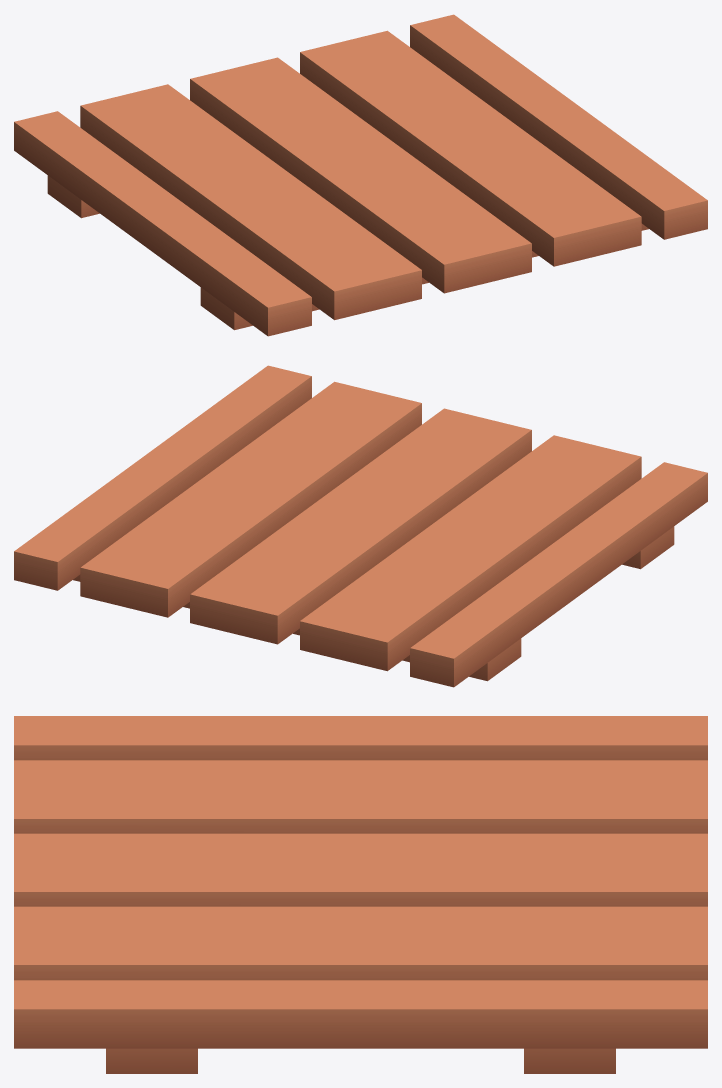
Rendered from floor.glb.
The picture shows the model from 3 angles, top to bottom: view 1: azimuth 30°, elevation 25°; view 2: azimuth 150°, elevation 25°; view 3: azimuth 270°, elevation 25°; orthographic projection. The views are drawn at different scales.
Visible parts, largest first — view 1: floor; view 2: floor; view 3: floor.
Part boxes in pixels (box(x1,y1,x2,y2)): floor: box(14, 14, 707, 336); floor: box(14, 365, 707, 687); floor: box(14, 716, 707, 1073).
Bounding box in the file's own units: 0.5 × 0.0512 × 0.5.
Materials: 1 (1 with a texture image).
